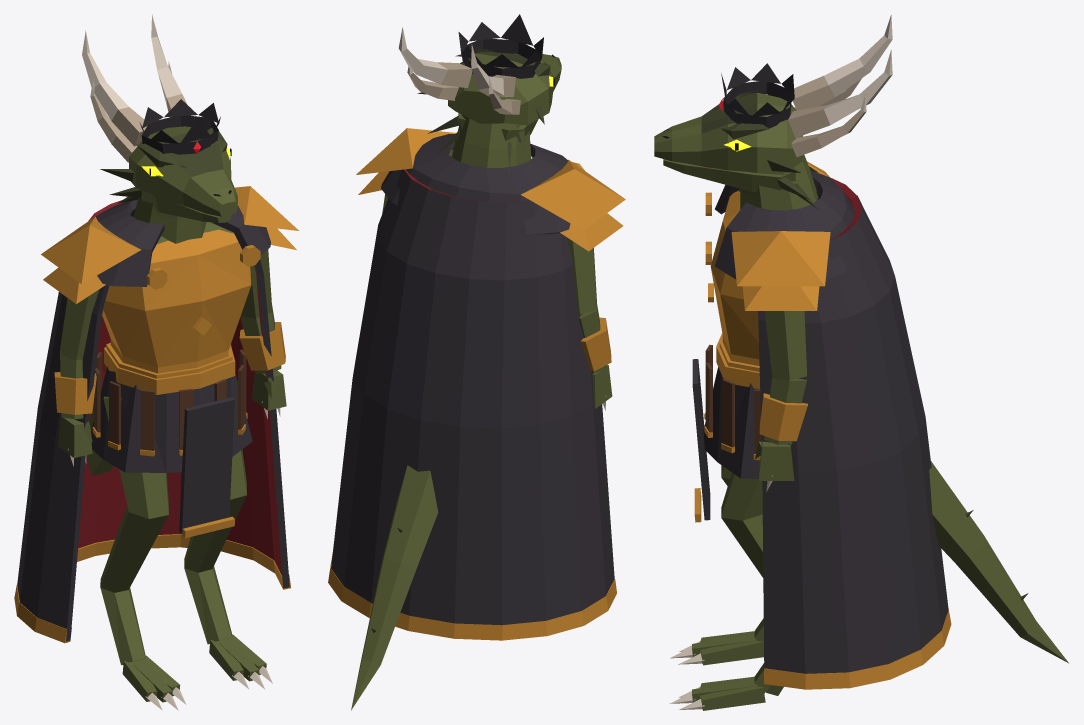
The model's file is thrask.glb.
3 renders of one model, left to right at view 1: azimuth 30°, elevation 25°; view 2: azimuth 150°, elevation 25°; view 3: azimuth 270°, elevation 25°, orthographic. The views are drawn at different scales.
Parts seen in each view (by area): view 1: Cloak, Cuirass, Leg.001, Skirt, Tabard, Skull, Leg, Mantle, Pauldron.002, Crown, CloakHem, Belt (+27 smaller); view 2: Cloak, Tail, Mantle, CloakHem, Skull, Pauldron.002, Crown, Neck, Pauldron, Horn, UpperArm.001, Pauldron.003 (+7 smaller); view 3: Cloak, Skull, Tail, Pauldron, Mantle, Cuirass, CloakHem, Leg, Skirt, Crown, UpperArm, Horn.002 (+14 smaller).
Boxes of the visible parts, bbox=[...] form: Cloak: bbox=[17, 200, 289, 641]; Cuirass: bbox=[102, 229, 251, 373]; Leg.001: bbox=[100, 396, 168, 664]; Skirt: bbox=[91, 366, 252, 472]; Tabard: bbox=[179, 397, 234, 533]; Skull: bbox=[129, 126, 237, 216]; Leg: bbox=[184, 450, 246, 644]; Mantle: bbox=[95, 199, 270, 286]; Pauldron.002: bbox=[41, 216, 141, 284]; Crown: bbox=[139, 99, 220, 154]; CloakHem: bbox=[14, 534, 290, 643]; Belt: bbox=[104, 345, 235, 394]; Cloak: bbox=[331, 169, 614, 625]; Tail: bbox=[351, 465, 438, 710]; Mantle: bbox=[381, 134, 570, 235]; CloakHem: bbox=[328, 552, 616, 640]; Skull: bbox=[448, 49, 561, 125]; Pauldron.002: bbox=[521, 159, 625, 230]; Crown: bbox=[458, 14, 543, 78]; Neck: bbox=[452, 115, 531, 167]; Pauldron: bbox=[356, 128, 455, 174]; Horn: bbox=[398, 27, 472, 88]; UpperArm.001: bbox=[566, 237, 596, 314]; Pauldron.003: bbox=[560, 213, 623, 251]; Cloak: bbox=[758, 178, 948, 673]; Skull: bbox=[654, 92, 802, 172]; Tail: bbox=[929, 461, 1068, 663]; Pauldron: bbox=[731, 231, 830, 286]; Mantle: bbox=[714, 171, 854, 280]; Cuirass: bbox=[710, 190, 759, 365]; CloakHem: bbox=[764, 610, 951, 689]; Leg: bbox=[721, 473, 783, 695]; Skirt: bbox=[703, 367, 759, 479]; Crown: bbox=[721, 63, 794, 128]; UpperArm: bbox=[764, 311, 806, 380]; Horn.002: bbox=[792, 15, 892, 110].
Bounding box in the file's own units: 1.05 × 2.44 × 1.41.
